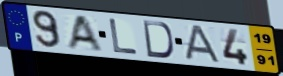4: (221, 28, 250, 67)
9: (31, 9, 63, 50)
A: (181, 24, 223, 65), (65, 14, 104, 51)
D: (141, 19, 175, 60)
L: (107, 17, 140, 56)
